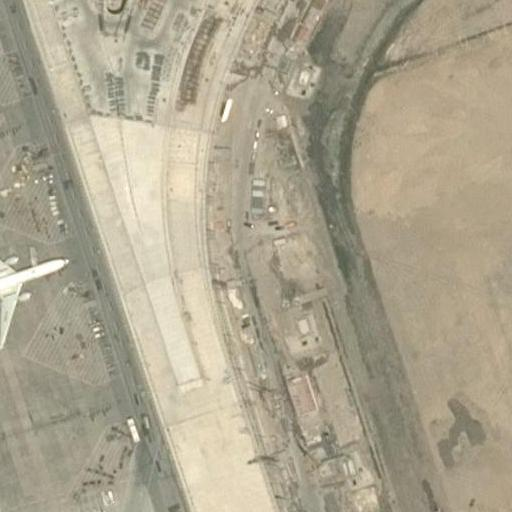Aircraft: (0, 227, 77, 346)
